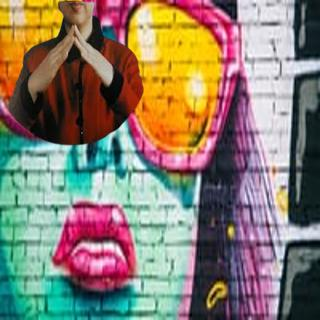HOME: (29, 22, 114, 91)
